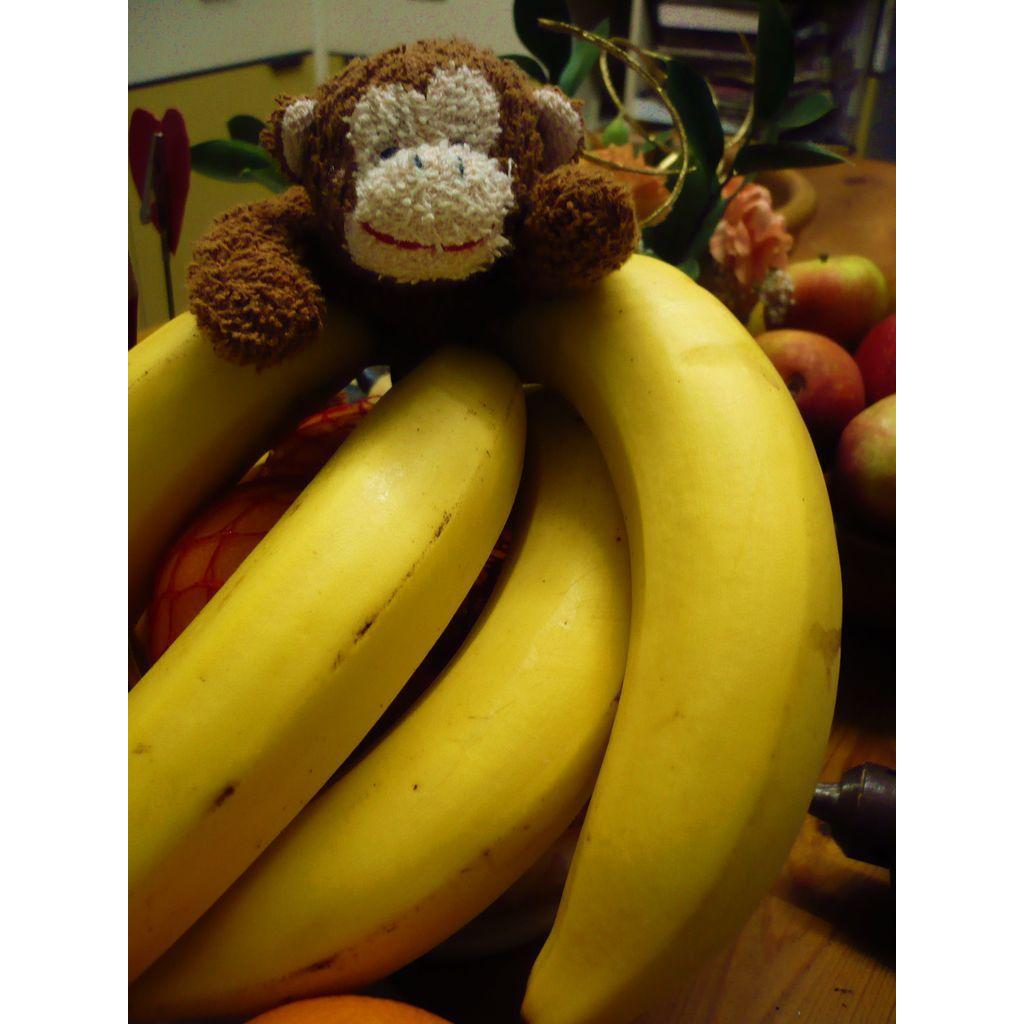banana: (433, 251, 845, 1024), (128, 344, 529, 954)
